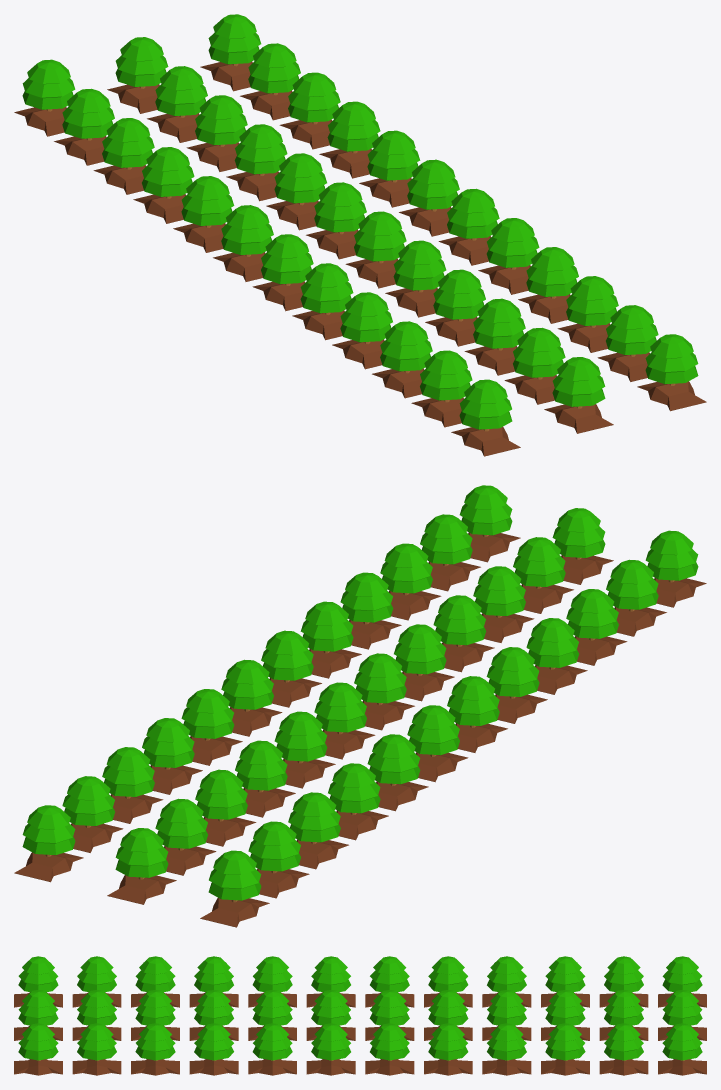
The model's file is pruning_decor.glb.
3 renders of one model, top to bottom at view 1: azimuth 30°, elevation 25°; view 2: azimuth 150°, elevation 25°; view 3: azimuth 270°, elevation 25°, orthographic. The views are drawn at different scales.
Visible parts, largest first — view 1: Sphere.001; view 2: Sphere.001; view 3: Sphere.001.
Boxes of the visible parts, box(x1,y1,x2,y2) form: Sphere.001: box(14, 14, 706, 456); Sphere.001: box(14, 485, 706, 927); Sphere.001: box(14, 956, 706, 1075).
Size of the model in its own units: 0.8392 by 0.198 by 2.93.
